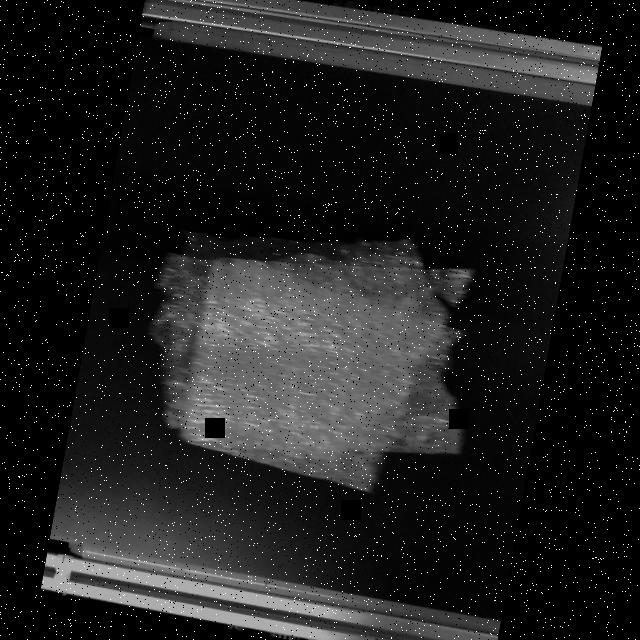scrap_plastic: (120, 195, 503, 513)
